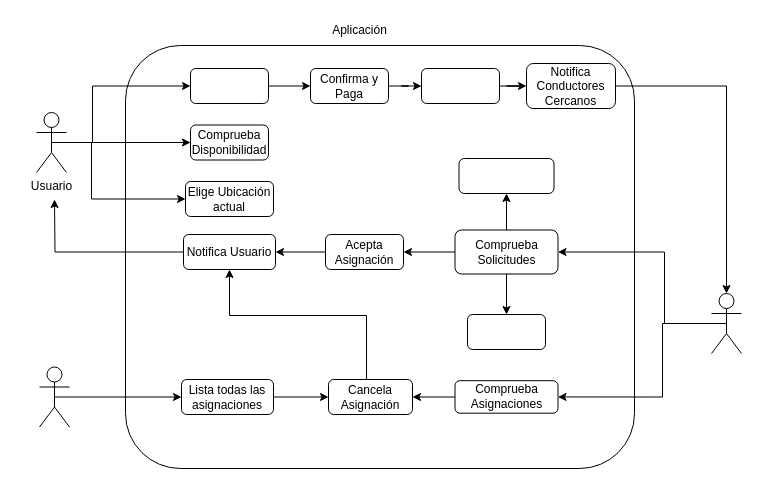
The diagram is 771 pixels wide and 486 high, and some of its shapes have lost their labels. The shapes that lost their labels are listed below. From the top down, each one's centre as x and y in pixels, then its label:
At (229,86): "Selecciona destino".
At (460,86): "Añade Solicitud".
At (506,176): "Revisa dirección asignación".
At (506,332): "Rechaza Asignación".
At (726,323): "Conductor".
At (54,396): "Administrador".
